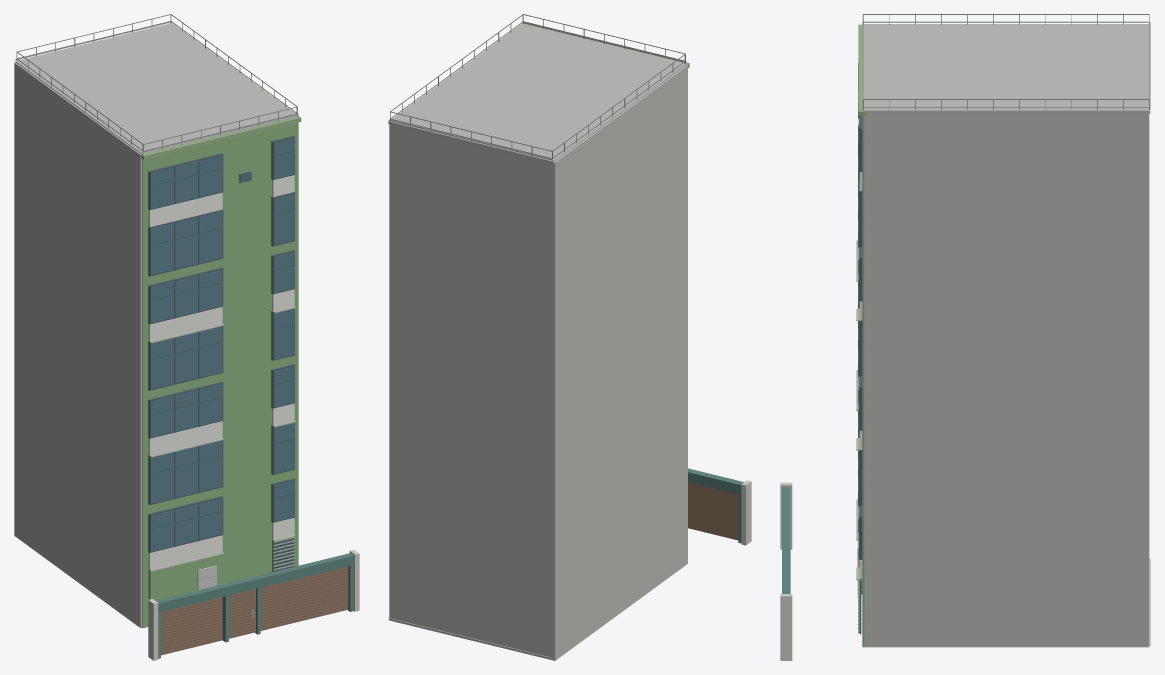
File: cetox-modelo-R02.glb
The picture shows the model from 3 angles, left to right: view 1: azimuth 30°, elevation 25°; view 2: azimuth 150°, elevation 25°; view 3: azimuth 270°, elevation 25°; orthographic projection. The views are drawn at different scales.
Visible parts, largest first — view 1: Lateral sin ventanas, Frente verde, Cubierta de azotea, Garaje derecho, Cristal izquierda 4-0, Cristal izquierda 2-0, Cristal izquierda 3-0, Garaje izquierdo, Cristal izquierda 1-1, Cristal izquierda 2-1, Cristal izquierda 3-1, Cristal izquierda 4-1 (+22 smaller); view 2: Volumen de hormigón · profundidad estimada, Lateral sin ventanas, Cubierta de azotea, Garaje izquierdo, Pórtico de ingreso, Pilar de cerramiento; view 3: Volumen de hormigón · profundidad estimada, Cubierta de azotea, Frente verde, Pórtico de ingreso, Pilar de cerramiento, Baranda azotea.
Boxes of the visible parts, box(x1,y1,x2,y2) form: Lateral sin ventanas: box(14, 62, 142, 627); Frente verde: box(142, 122, 298, 627); Cubierta de azotea: box(15, 23, 298, 154); Garaje derecho: box(260, 566, 348, 630); Cristal izquierda 4-0: box(150, 211, 222, 275); Cristal izquierda 2-0: box(150, 440, 222, 503); Cristal izquierda 3-0: box(150, 326, 222, 389); Garaje izquierdo: box(161, 597, 222, 655); Cristal izquierda 1-1: box(150, 498, 222, 551); Cristal izquierda 2-1: box(150, 384, 222, 437); Cristal izquierda 3-1: box(150, 270, 222, 323); Cristal izquierda 4-1: box(150, 155, 222, 208); Volumen de hormigón · profundidad estimada: box(389, 124, 553, 660); Lateral sin ventanas: box(553, 65, 687, 660); Cubierta de azotea: box(388, 23, 686, 164); Garaje izquierdo: box(688, 482, 738, 540); Pórtico de ingreso: box(688, 468, 743, 494); Pilar de cerramiento: box(741, 480, 751, 545); Volumen de hormigón · profundidad estimada: box(864, 113, 1149, 647); Cubierta de azotea: box(863, 24, 1150, 113); Frente verde: box(862, 116, 864, 647); Pórtico de ingreso: box(782, 487, 790, 593); Pilar de cerramiento: box(780, 594, 792, 660); Baranda azotea: box(863, 21, 1148, 22).
Size of the model in its own units: 13.19 by 29.64 by 18.17.
